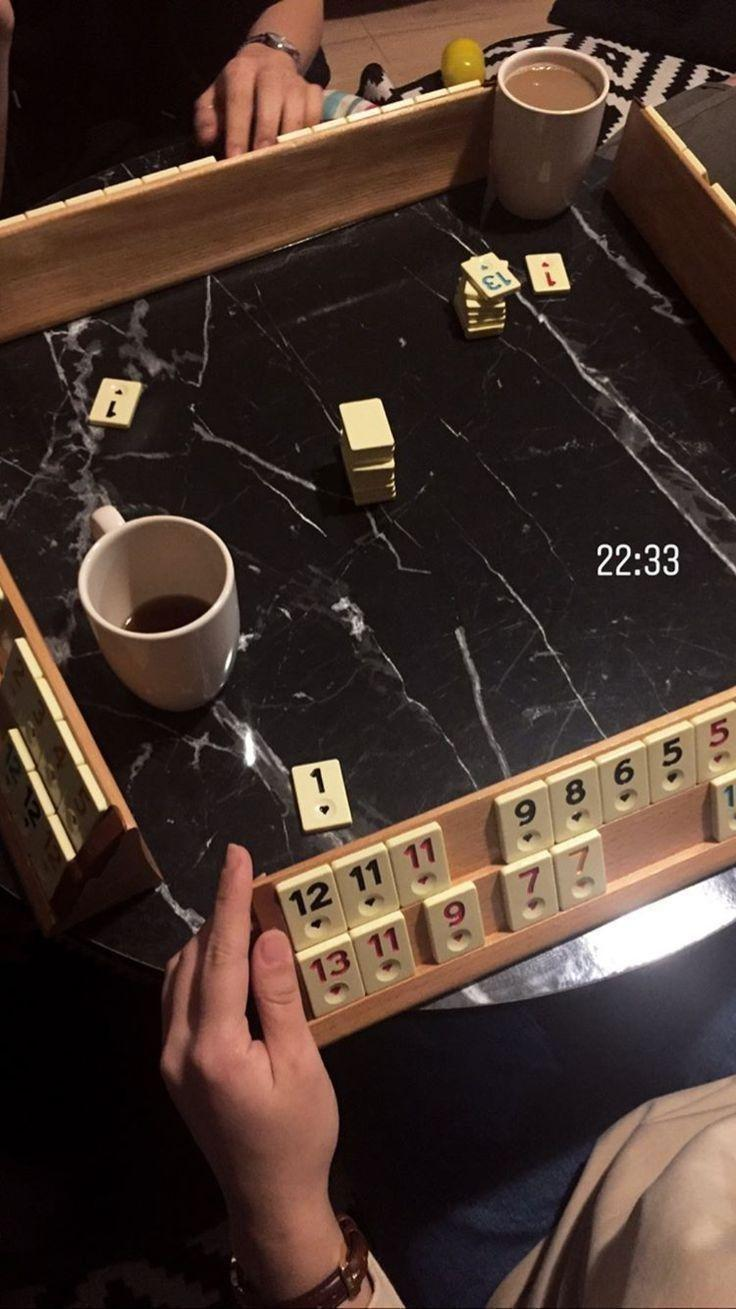cup-handle: (73, 504, 243, 714), (488, 42, 613, 218)
